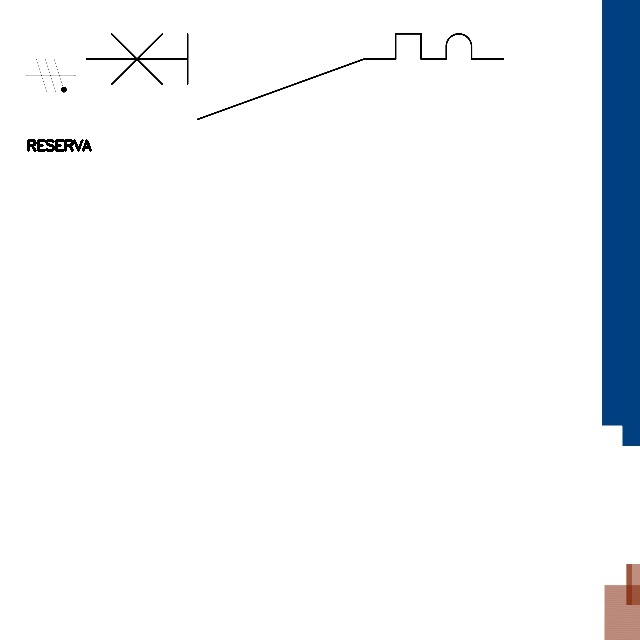interruptor_termomagnetico: (75, 23, 514, 130)
